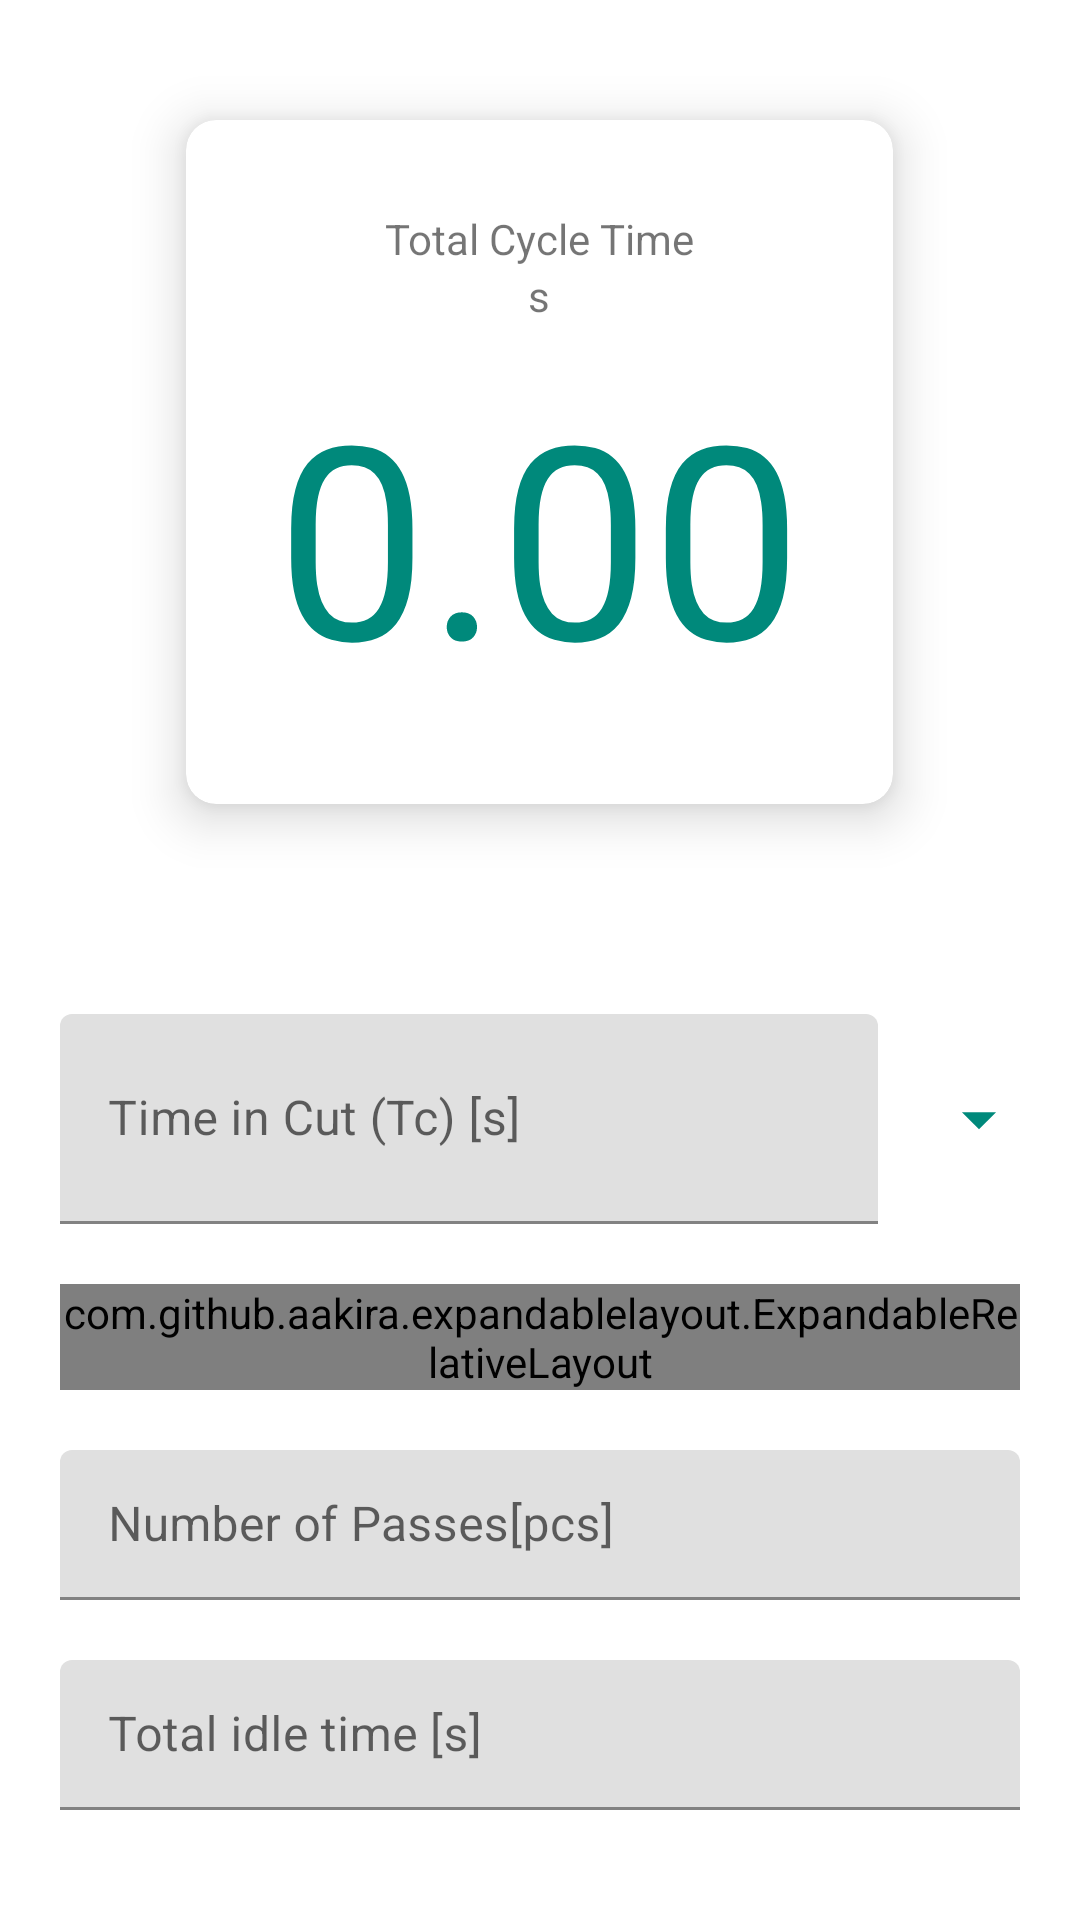

Screen size 1080 × 1920. Icon name, then its box in pixels as (x1, y1, x2, y2):
arrow drop down: (962, 1112, 996, 1129)
